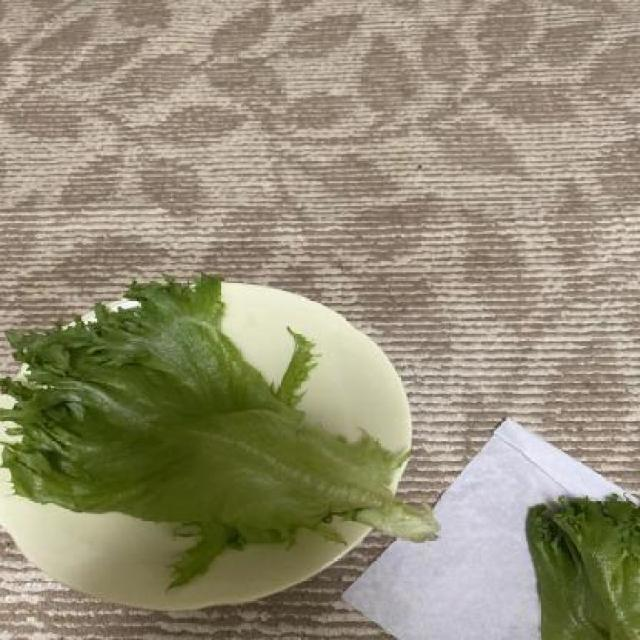Lettuce: (0, 270, 434, 593), (509, 484, 640, 640)
